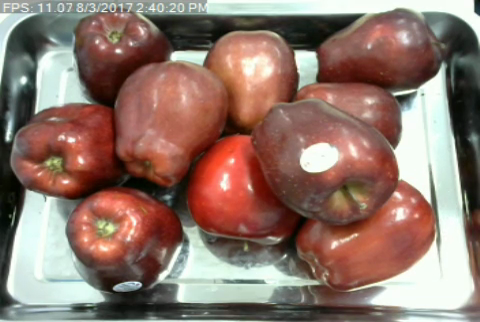Apple: (249, 97, 401, 227), (293, 174, 438, 293), (108, 58, 233, 185), (64, 184, 185, 295), (185, 133, 300, 249), (9, 100, 132, 200), (312, 4, 442, 95), (198, 26, 301, 135), (71, 7, 174, 108)
